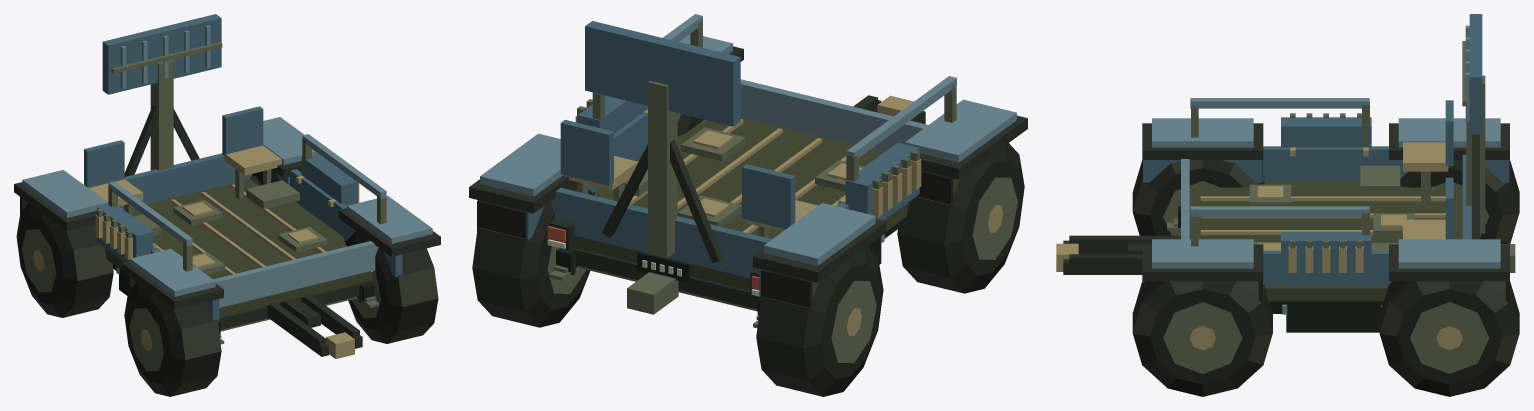
Rendered from military_wagon_anti_air.glb.
3 renders of one model, left to right at view 1: azimuth 30°, elevation 25°; view 2: azimuth 150°, elevation 25°; view 3: azimuth 270°, elevation 25°, orthographic. The views are drawn at different scales.
Parts seen in each view (by area): view 1: WagonDeck.005, WagonDetails_anti_air, AllTerrainTire.020, AllTerrainTire.022, AllTerrainTire.021, DrawbarFrame.005; view 2: WagonDeck.005, WagonDetails_anti_air, AllTerrainTire.022, AllTerrainTire.020, AllTerrainTire.023, DrawbarFrame.005; view 3: WagonDeck.005, WagonDetails_anti_air, AllTerrainTire.021, AllTerrainTire.023, AllTerrainTire.020, AllTerrainTire.022, DrawbarFrame.005.
Part boxes in pixels (x1,y1,x2,y2): WagonDeck.005: [14, 106, 440, 344]; WagonDetails_anti_air: [95, 14, 386, 271]; AllTerrainTire.020: [124, 282, 221, 396]; AllTerrainTire.022: [16, 203, 113, 317]; AllTerrainTire.021: [345, 231, 438, 343]; DrawbarFrame.005: [267, 299, 362, 358]; WagonDeck.005: [469, 34, 1027, 327]; WagonDetails_anti_air: [575, 14, 956, 262]; AllTerrainTire.022: [756, 246, 883, 396]; AllTerrainTire.020: [897, 143, 1024, 293]; AllTerrainTire.023: [472, 182, 594, 327]; DrawbarFrame.005: [869, 95, 925, 124]; WagonDeck.005: [1069, 100, 1515, 332]; WagonDetails_anti_air: [1190, 14, 1485, 281]; AllTerrainTire.021: [1132, 281, 1272, 396]; AllTerrainTire.023: [1379, 281, 1519, 396]; AllTerrainTire.020: [1132, 160, 1264, 235]; AllTerrainTire.022: [1400, 160, 1519, 243]; DrawbarFrame.005: [1056, 240, 1142, 274].
Bounding box in the file's own units: 4.48 × 3.89 × 5.82.
2 materials, 2 textured.
